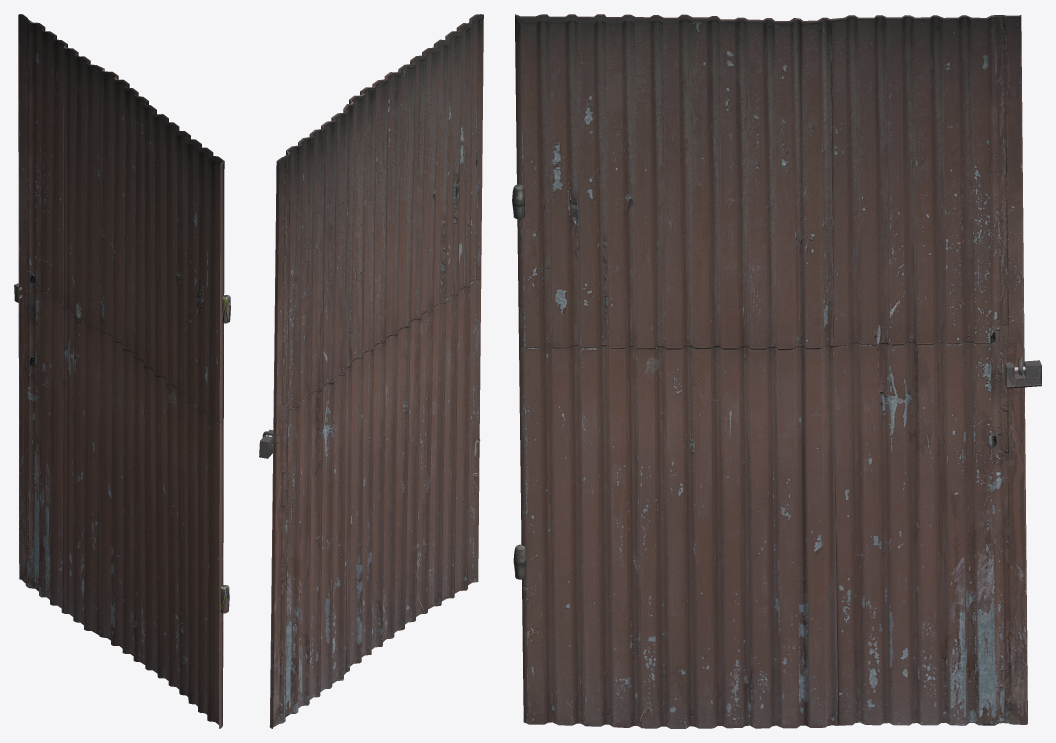
Rendered from sm_GarageDoor_01_08.fbx.
The picture shows the model from 3 angles, left to right: view 1: azimuth 30°, elevation 25°; view 2: azimuth 150°, elevation 25°; view 3: azimuth 270°, elevation 25°; orthographic projection. The views are drawn at different scales.
Parts seen in each view (by area): view 1: sm_GarageDoor_01_08_LOD0; view 2: sm_GarageDoor_01_08_LOD0; view 3: sm_GarageDoor_01_08_LOD0.
Part boxes in pixels (box(x1,y1,x2,y2)): sm_GarageDoor_01_08_LOD0: box(14, 14, 230, 728); sm_GarageDoor_01_08_LOD0: box(259, 14, 483, 728); sm_GarageDoor_01_08_LOD0: box(512, 14, 1041, 728).
Size of the model in its own units: 185 by 9.33 by 273.
